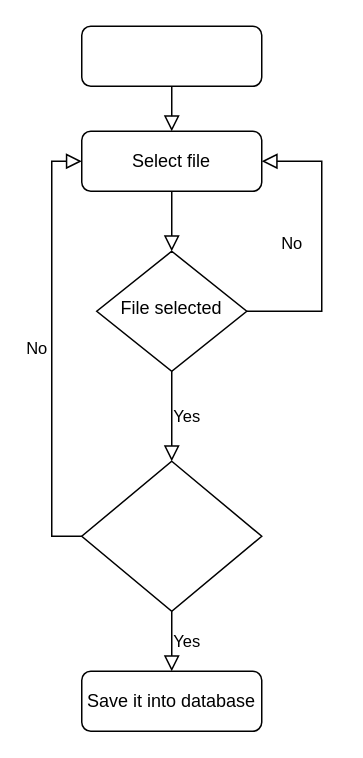
Some shapes in this 363 by 758 pixel diagram are drawn without their labels. Each missing label, with the box of its shape:
Are data in CSV format: (80, 460, 262, 611)
Log in: (80, 25, 262, 86)
